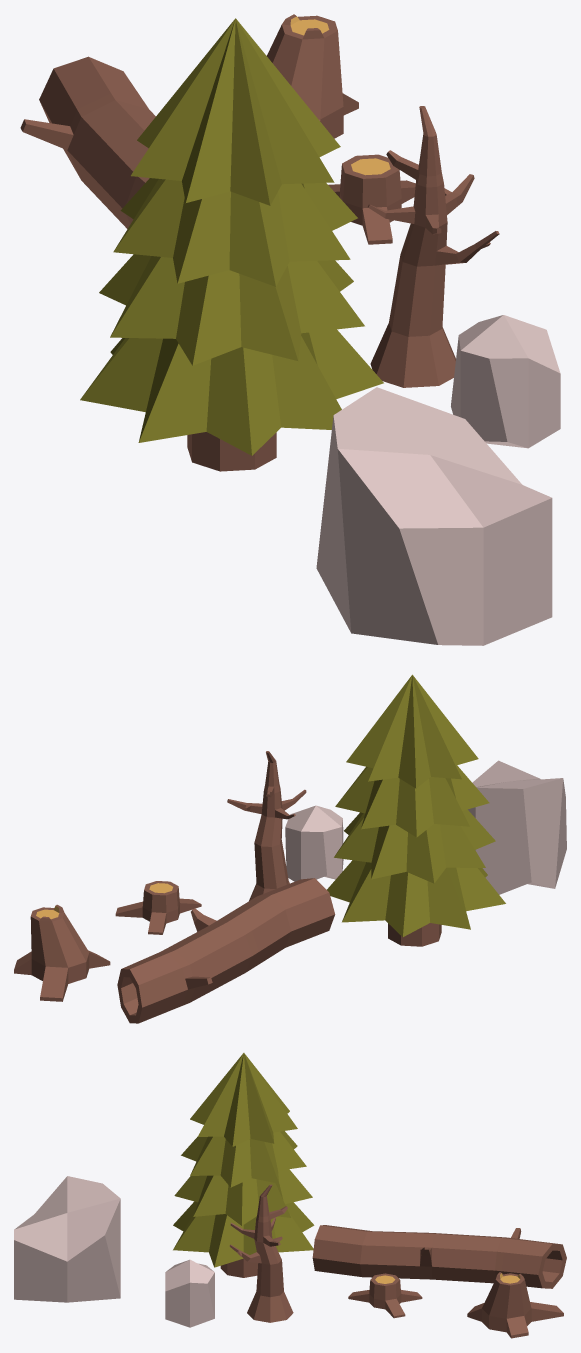
The model's file is Okolina.fbx.
3 renders of one model, top to bottom at view 1: azimuth 30°, elevation 25°; view 2: azimuth 150°, elevation 25°; view 3: azimuth 270°, elevation 25°, orthographic. The views are drawn at different scales.
Visible parts, largest first — view 1: Jelka, Kamen1, SuvoDrvo, Stablo, Kamen2, Panj2, Panj1; view 2: Jelka, Stablo, Kamen1, Panj2, Kamen2, SuvoDrvo, Panj1; view 3: Jelka, Kamen1, Stablo, SuvoDrvo, Panj2, Kamen2, Panj1.
Part boxes in pixels (box(x1,y1,x2,y2)): Jelka: box(80, 18, 383, 471); Kamen1: box(316, 387, 552, 645); SuvoDrvo: box(368, 106, 499, 387); Stablo: box(20, 56, 155, 228); Kamen2: box(451, 315, 560, 448); Panj2: box(267, 14, 358, 138); Panj1: box(328, 154, 415, 244); Jelka: box(327, 674, 505, 946); Stablo: box(117, 878, 335, 1023); Kamen1: box(468, 760, 566, 894); Panj2: box(14, 904, 110, 1001); Kamen2: box(285, 805, 343, 881); SuvoDrvo: box(227, 751, 306, 900); Panj1: box(115, 881, 201, 934); Jelka: box(173, 1053, 314, 1277); Kamen1: box(14, 1176, 120, 1302); Stablo: box(312, 1225, 566, 1288); SuvoDrvo: box(229, 1184, 293, 1322); Panj2: box(467, 1272, 563, 1338); Kamen2: box(165, 1259, 214, 1327); Panj1: box(348, 1273, 422, 1318).
Size of the model in its own units: 483 by 425 by 893.
